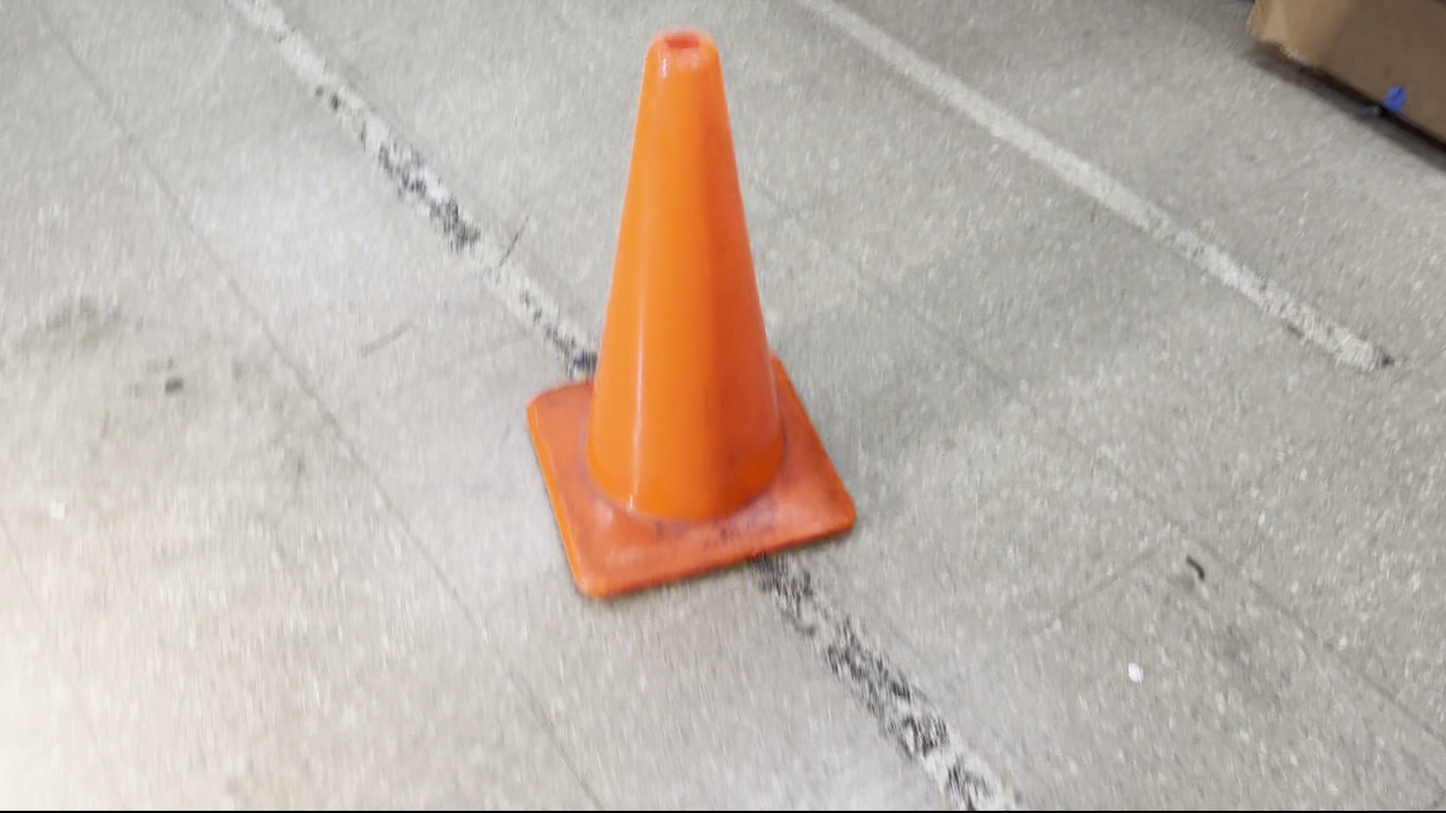traffic_cone: (524, 25, 857, 600)
